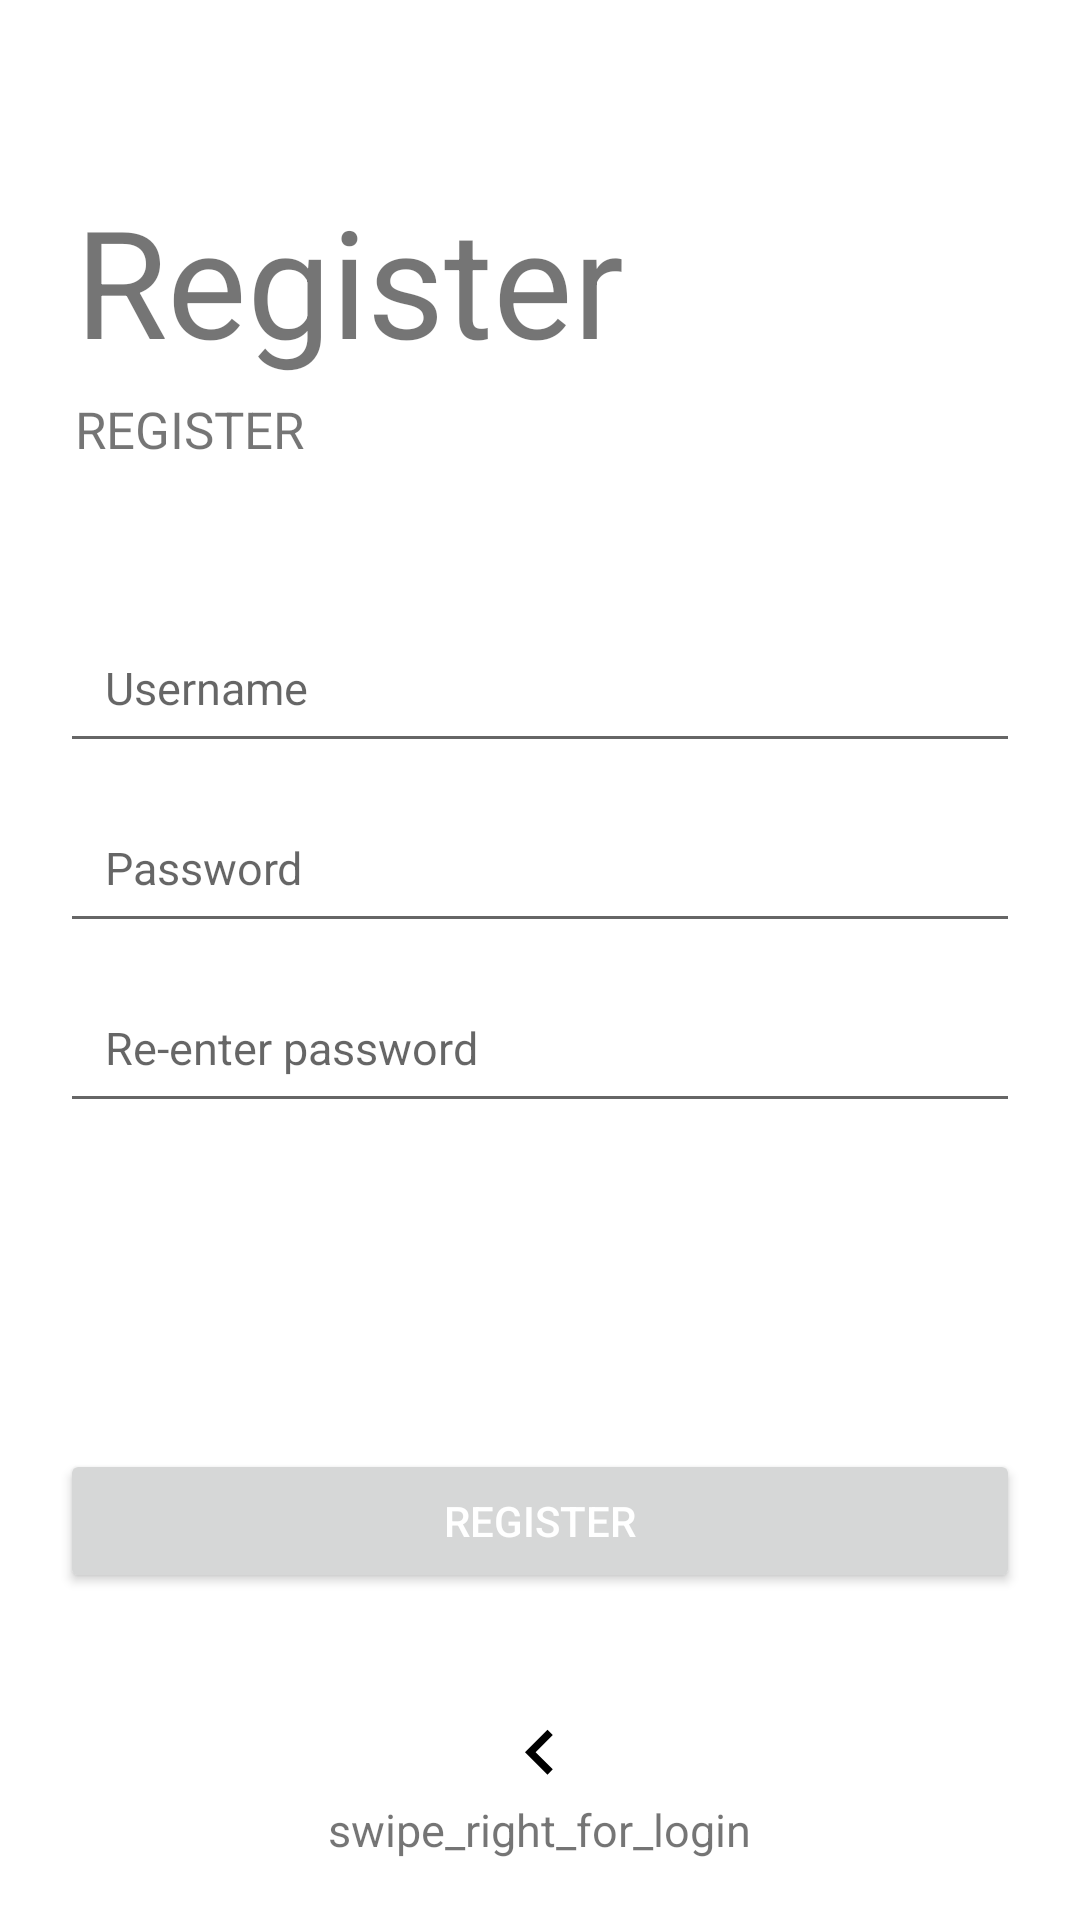

Point at icon controls on the screen. Image size 1080*1920, points as (x,y).
arrow left: (539,1752)
